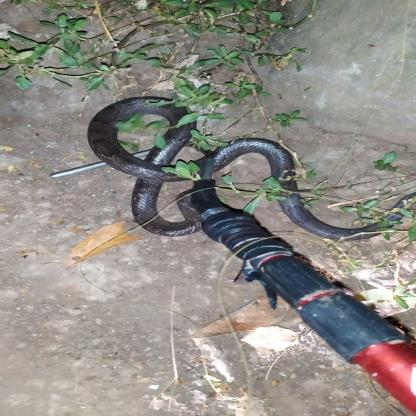Snake: (86, 90, 384, 242)
